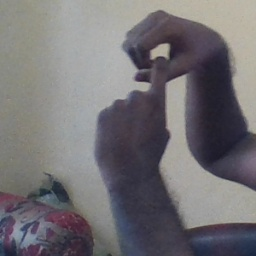Q: (91, 9, 223, 170)
